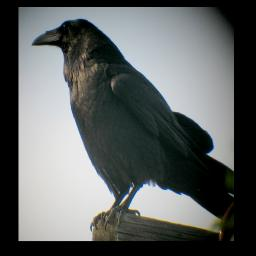Crow: (30, 16, 234, 232)
